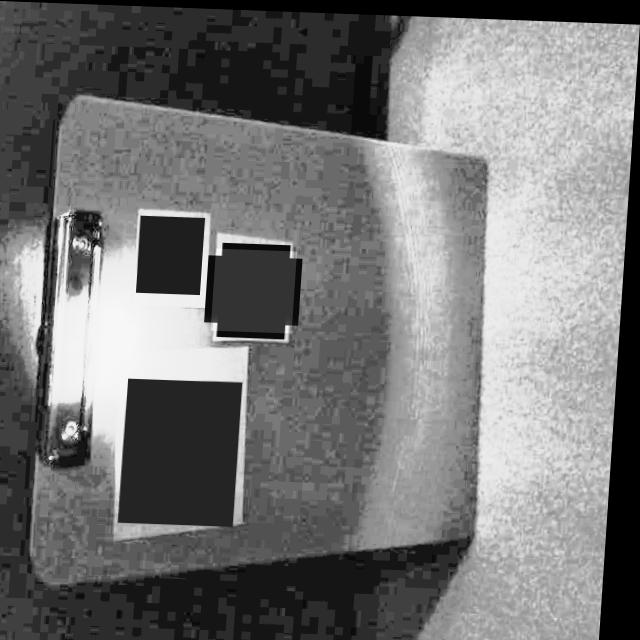qr_code: (125, 376, 249, 524), (215, 246, 300, 330), (139, 213, 209, 292)
